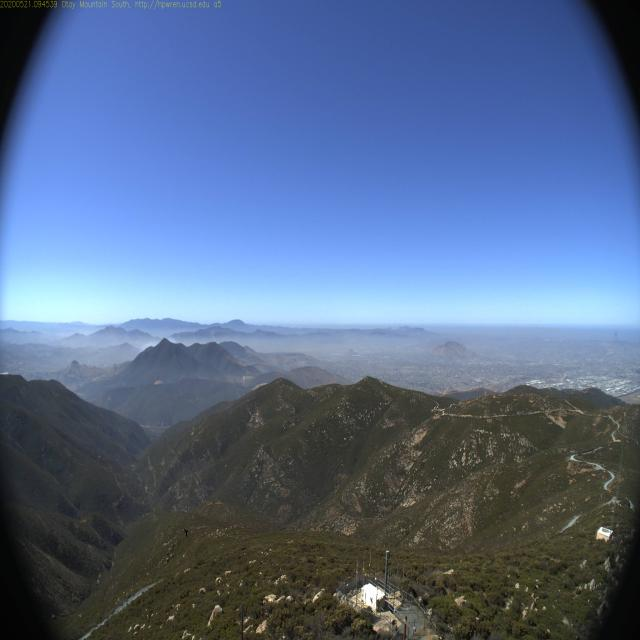smoke: (138, 332, 178, 358)
